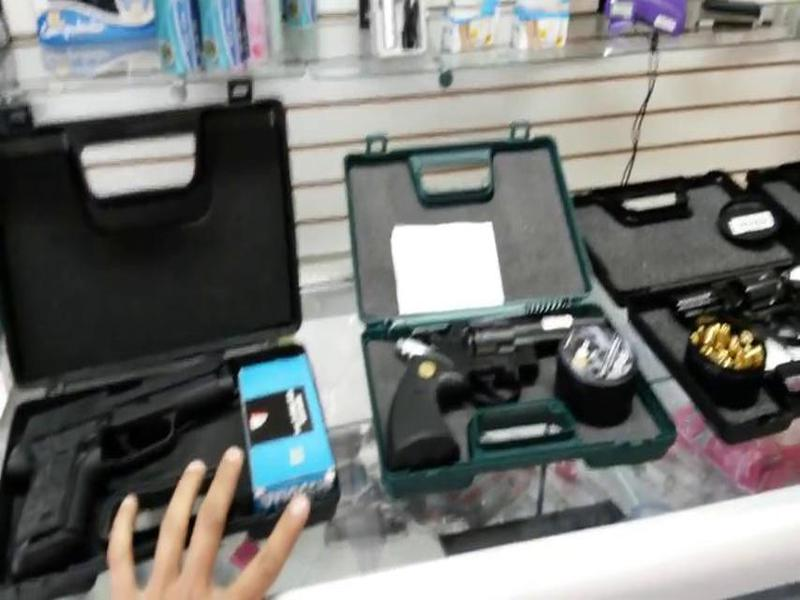Pistola: (15, 347, 252, 574)
Revolver: (370, 294, 627, 494)
